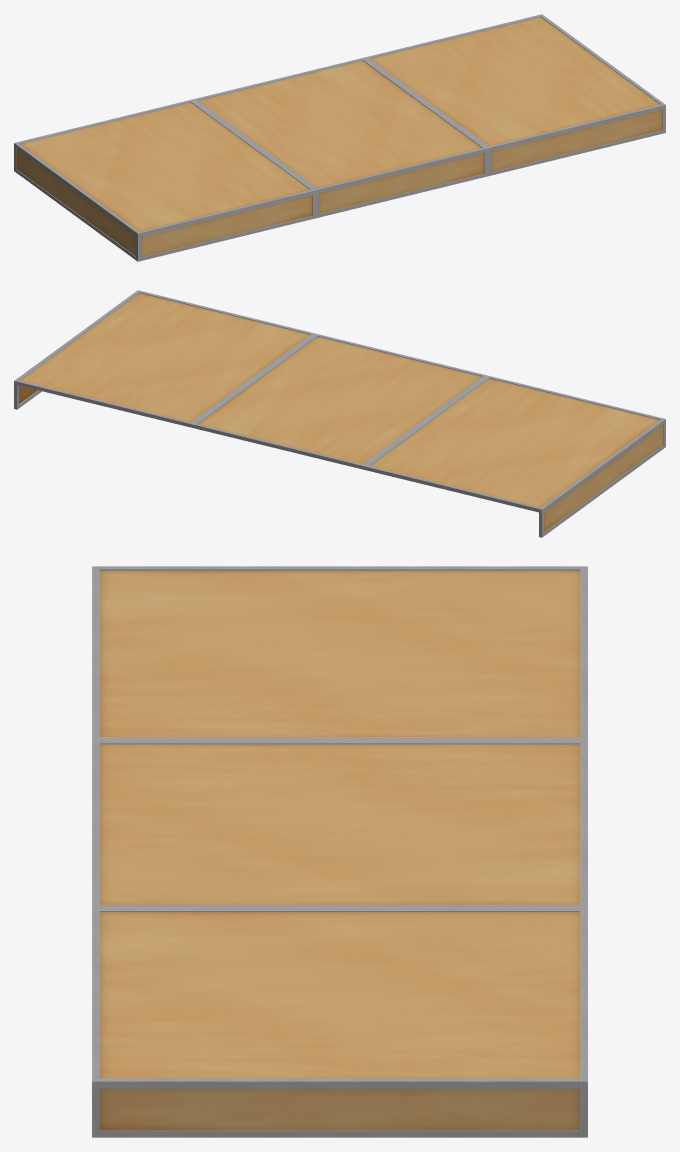
Rendered from jsf_2P_s02_c05_t01_DX.fbx.
The picture shows the model from 3 angles, top to bottom: view 1: azimuth 30°, elevation 25°; view 2: azimuth 150°, elevation 25°; view 3: azimuth 270°, elevation 25°; orthographic projection. The views are drawn at different scales.
Visible parts, largest first — view 1: jsf_2P_s02_c05_t01_DX; view 2: jsf_2P_s02_c05_t01_DX; view 3: jsf_2P_s02_c05_t01_DX.
Part boxes in pixels (bbox=[...]): jsf_2P_s02_c05_t01_DX: bbox=[14, 14, 665, 261]; jsf_2P_s02_c05_t01_DX: bbox=[14, 290, 665, 537]; jsf_2P_s02_c05_t01_DX: bbox=[92, 566, 587, 1137].
Bounding box in the file's own units: 246 × 12.51 × 100.
